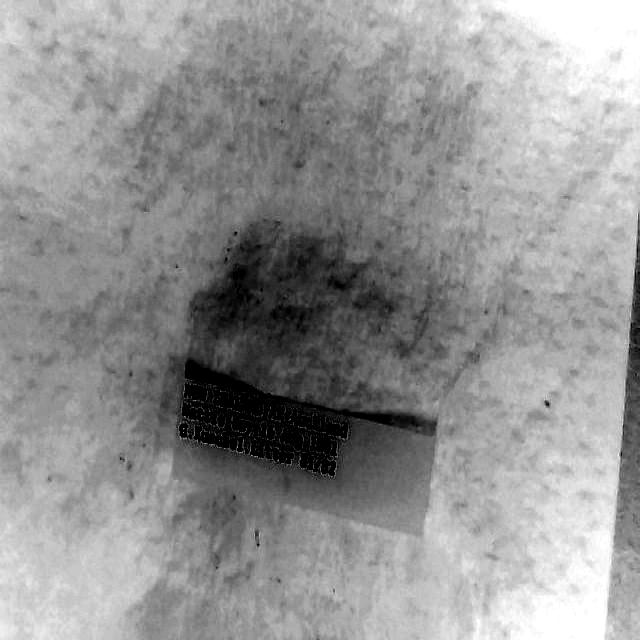typed_label: (176, 373, 434, 532)
